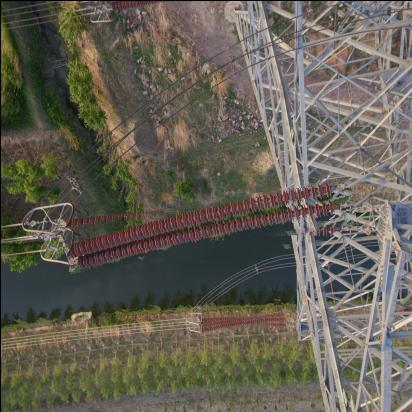insulator: (63, 189, 356, 262), (199, 313, 291, 333)
